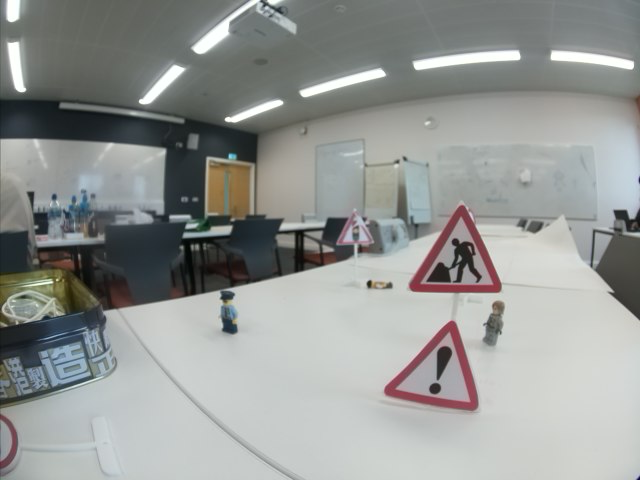Lego Man: (480, 300, 508, 346), (217, 289, 239, 334), (366, 278, 394, 291)
Roadworks: (408, 205, 506, 291)
Traffic lights: (336, 210, 377, 245)
Warning: (383, 320, 477, 411)
